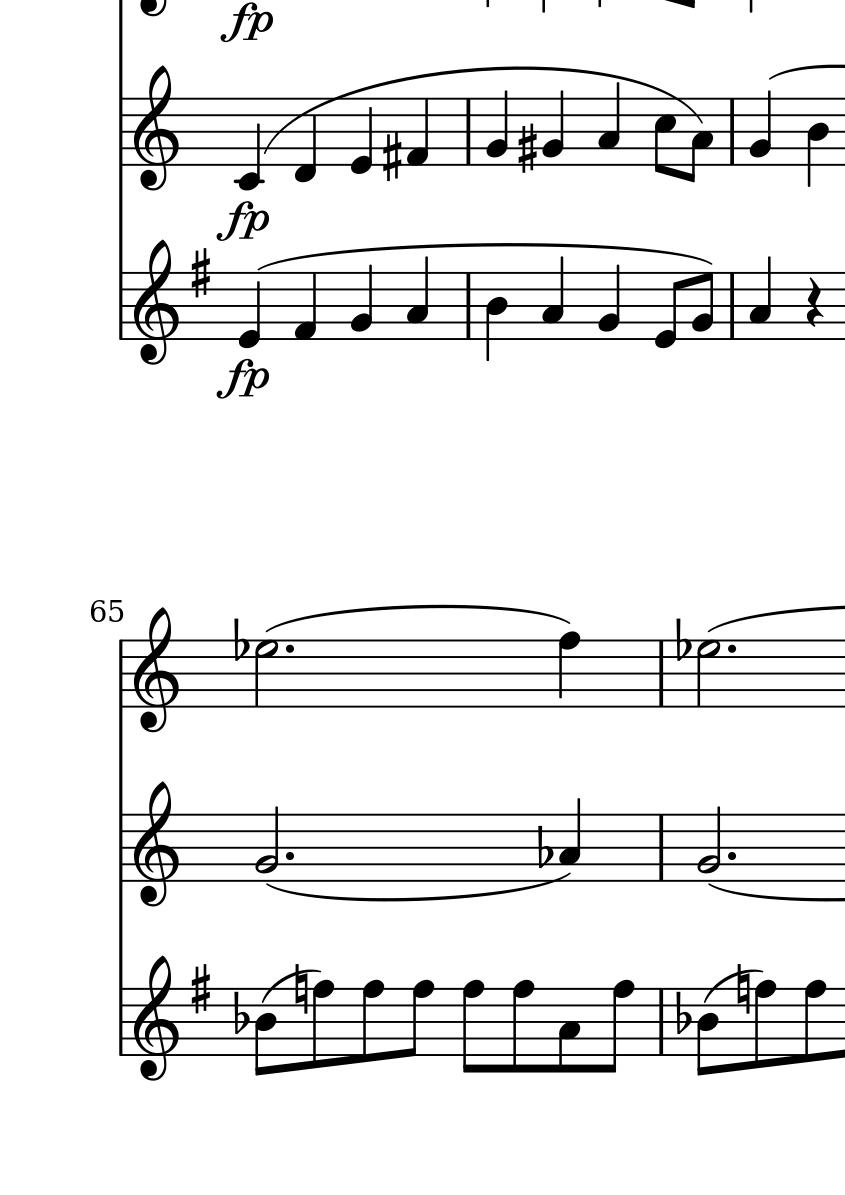2_2: (694, 805, 723, 884), (253, 804, 281, 884)
2_7: (693, 639, 722, 709), (252, 639, 280, 711)
4_-1: (291, 96, 318, 185)
4_-2: (232, 94, 265, 192)
4_0: (347, 96, 375, 177), (236, 272, 261, 350)
4_1: (405, 96, 430, 167), (293, 271, 318, 341)
4_2: (347, 262, 375, 342), (484, 87, 510, 168), (747, 88, 773, 168), (596, 261, 621, 342), (542, 88, 564, 168)
4_3: (404, 255, 431, 341), (748, 255, 773, 343), (597, 81, 622, 166), (558, 796, 582, 883), (541, 255, 565, 341)
4_4: (804, 96, 830, 191), (483, 271, 509, 365)
4_8: (556, 629, 581, 710)
5: (89, 597, 106, 626)
6: (108, 597, 124, 624)
8_0: (653, 271, 684, 351)
8_2: (692, 272, 714, 345)
8_3: (681, 98, 714, 184), (557, 988, 582, 1074)
8_4: (253, 988, 277, 1077), (695, 988, 719, 1076)
8_5: (652, 97, 676, 176)
8_8: (601, 978, 636, 1075), (460, 979, 488, 1075), (403, 980, 436, 1058), (509, 979, 536, 1073), (753, 979, 778, 1071), (802, 979, 829, 1062), (310, 979, 334, 1069), (359, 978, 384, 1062)
Flat: (535, 824, 555, 870), (674, 988, 691, 1037), (231, 990, 249, 1036), (231, 616, 248, 663), (674, 618, 692, 662)
Gclef: (131, 64, 182, 194), (131, 953, 180, 1084), (132, 238, 180, 366), (131, 781, 179, 907), (134, 607, 179, 733)
Natural: (292, 964, 311, 1021), (735, 965, 751, 1014)
Rests4: (804, 277, 822, 330)
Sharp: (186, 247, 212, 302), (380, 129, 403, 184), (189, 963, 211, 1017), (516, 123, 539, 173)
Single_barline: (651, 640, 672, 707), (651, 814, 671, 881), (113, 97, 131, 166), (113, 988, 131, 1056), (113, 814, 131, 882), (723, 98, 741, 165), (113, 639, 130, 709), (653, 988, 670, 1057), (113, 272, 130, 340), (460, 99, 477, 165), (460, 273, 477, 339), (724, 272, 740, 340)
Slur: (254, 243, 711, 267), (261, 602, 569, 630), (261, 881, 561, 902), (261, 964, 318, 1001), (700, 963, 758, 999)
dot: (724, 848, 739, 866), (282, 848, 297, 865), (723, 642, 740, 657), (282, 642, 297, 657)
fp: (216, 357, 269, 403), (220, 1, 274, 45), (216, 201, 270, 243)
